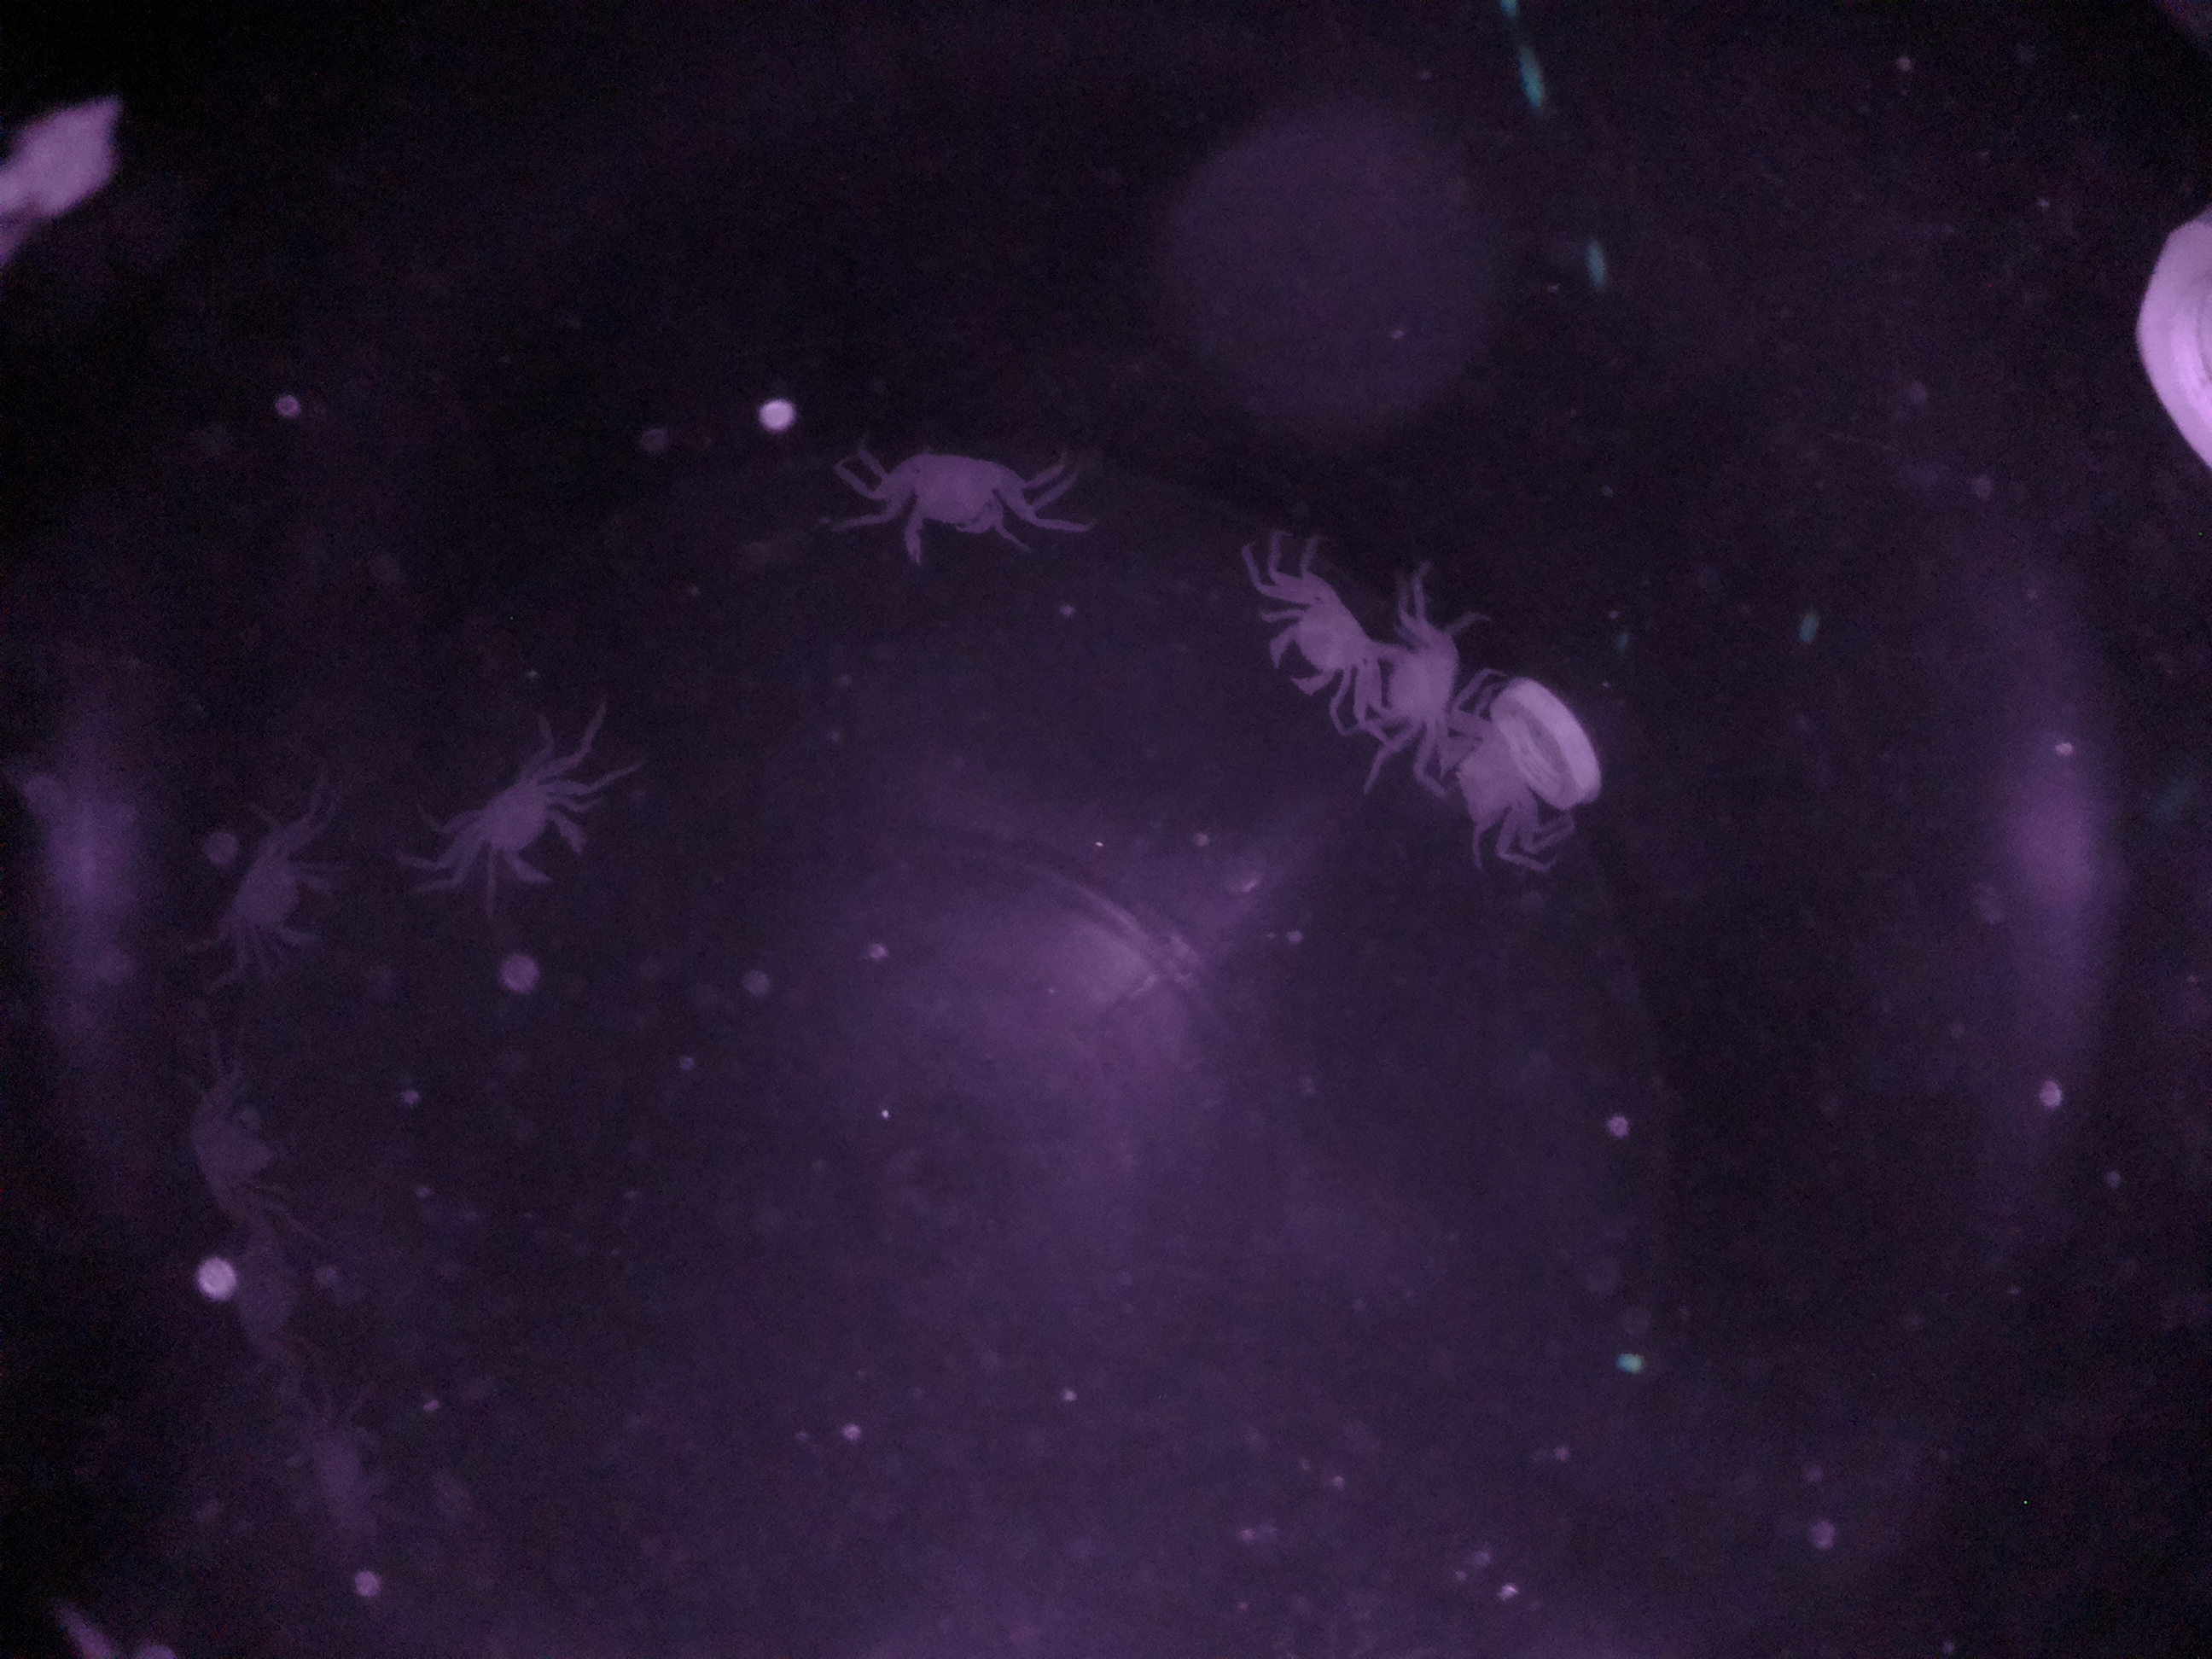Crab: (846, 399, 1073, 617), (178, 777, 364, 988), (420, 714, 603, 922), (1224, 538, 1397, 748)
